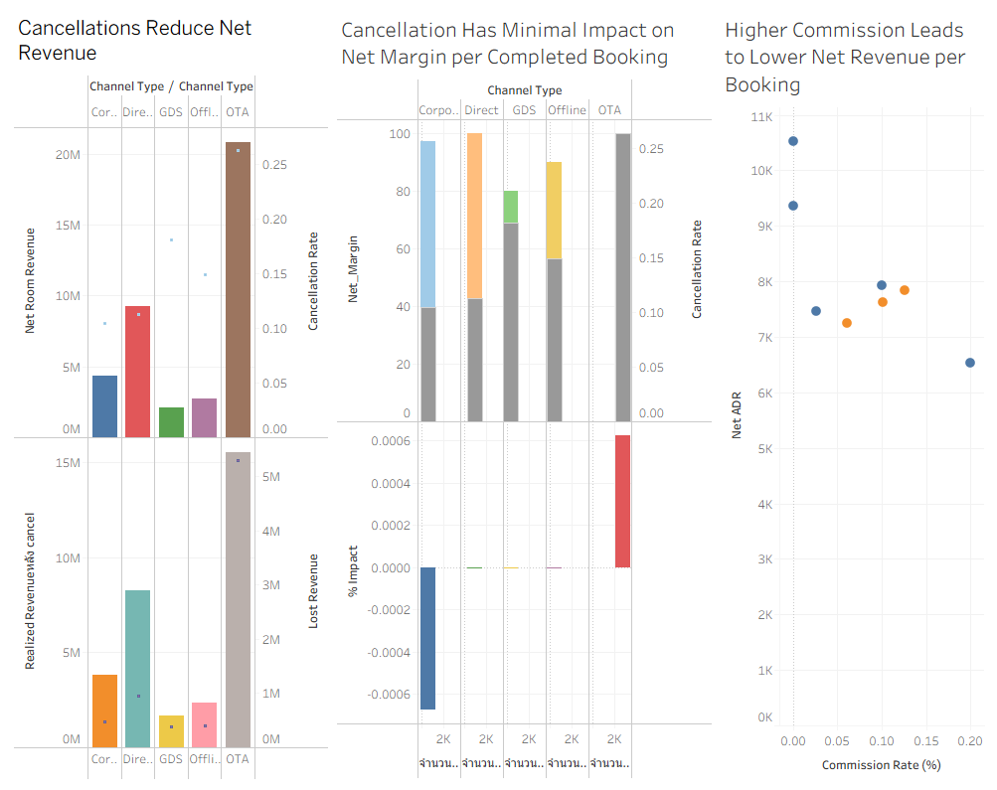

What the dashboard file says about the page in this screenshot:
{"tool":"tableau","page":{"name":"Dashboard 1 (2)","canvas":[1000,800],"ordinal":1},"visuals":[{"type":"worksheet","title":"Q3. Cancellation ส่งผลต่อ Net Revenue จริง มากแค่ไหน (2)","mark":"Bar","rows":["net_room_revenue","Calculation_0873624701788172","Calculation_0873624703762445","Calculation_0873624703971342"],"cols":["channel_type","channel_type"],"box":[8,8,325,784]},{"type":"worksheet","title":"Q5 Cancellation ส่งผลต่อ average net margin ต่อ booking ที่ “สำเร็จจริง” แค่ไหน","mark":"Bar","rows":["Calculation_0873624677253120","Calculation_0873624701788172","Calculation_0873624706109457"],"cols":["channel_type","booking_id"],"box":[333,8,386,784]},{"type":"worksheet","title":"H3Channels ที่มี Commission สูง จะมี Net Revenue ต่อ booking ต่ำกว่า","mark":"Automatic","rows":["Calculation_0873624697606155"],"cols":["Calculation_0873624709365778"],"box":[719,8,273,784]}]}

Visuals, with their boxes in screenshot pixels (x1, y1, x2, y2), scaled from the page's 1000x800 canvas onto the 997x790 screenshot:
"Q3. Cancellation ส่งผลต่อ Net Revenue จริง มากแค่ไหน (2)" worksheet (Bar marks): <bbox>8, 8, 332, 782</bbox>
"Q5 Cancellation ส่งผลต่อ average net margin ต่อ booking ที่ “สำเร็จจริง” แค่ไหน" worksheet (Bar marks): <bbox>332, 8, 717, 782</bbox>
"H3Channels ที่มี Commission สูง จะมี Net Revenue ต่อ booking ต่ำกว่า" worksheet: <bbox>717, 8, 989, 782</bbox>
